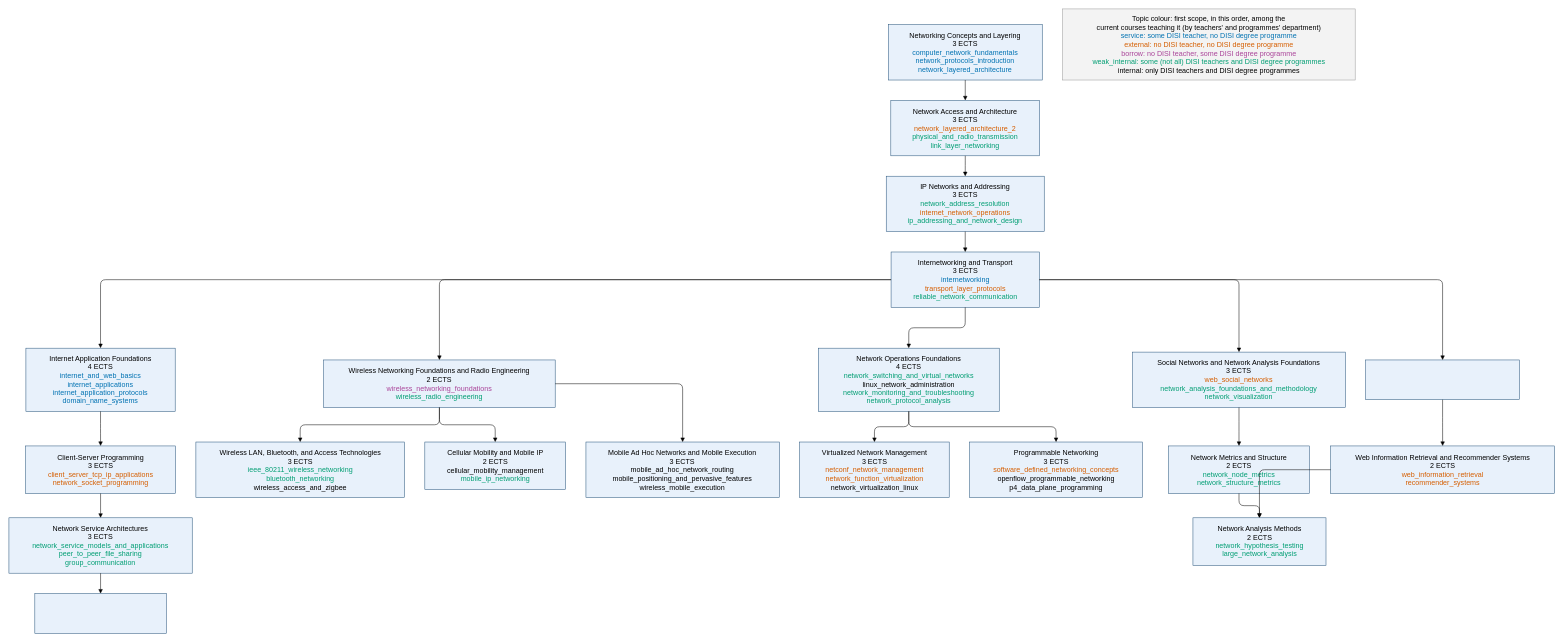
The diagram is 1564 pixels wide and 643 high, and some of its shapes have lost their labels. Each missing label, with the centre of its shape:
Information Retrieval Foundations 1 ECTS information_retrieval: (1442,379)
Network Quality of Service 3 ECTS transport_and_network_qos: (100,613)
